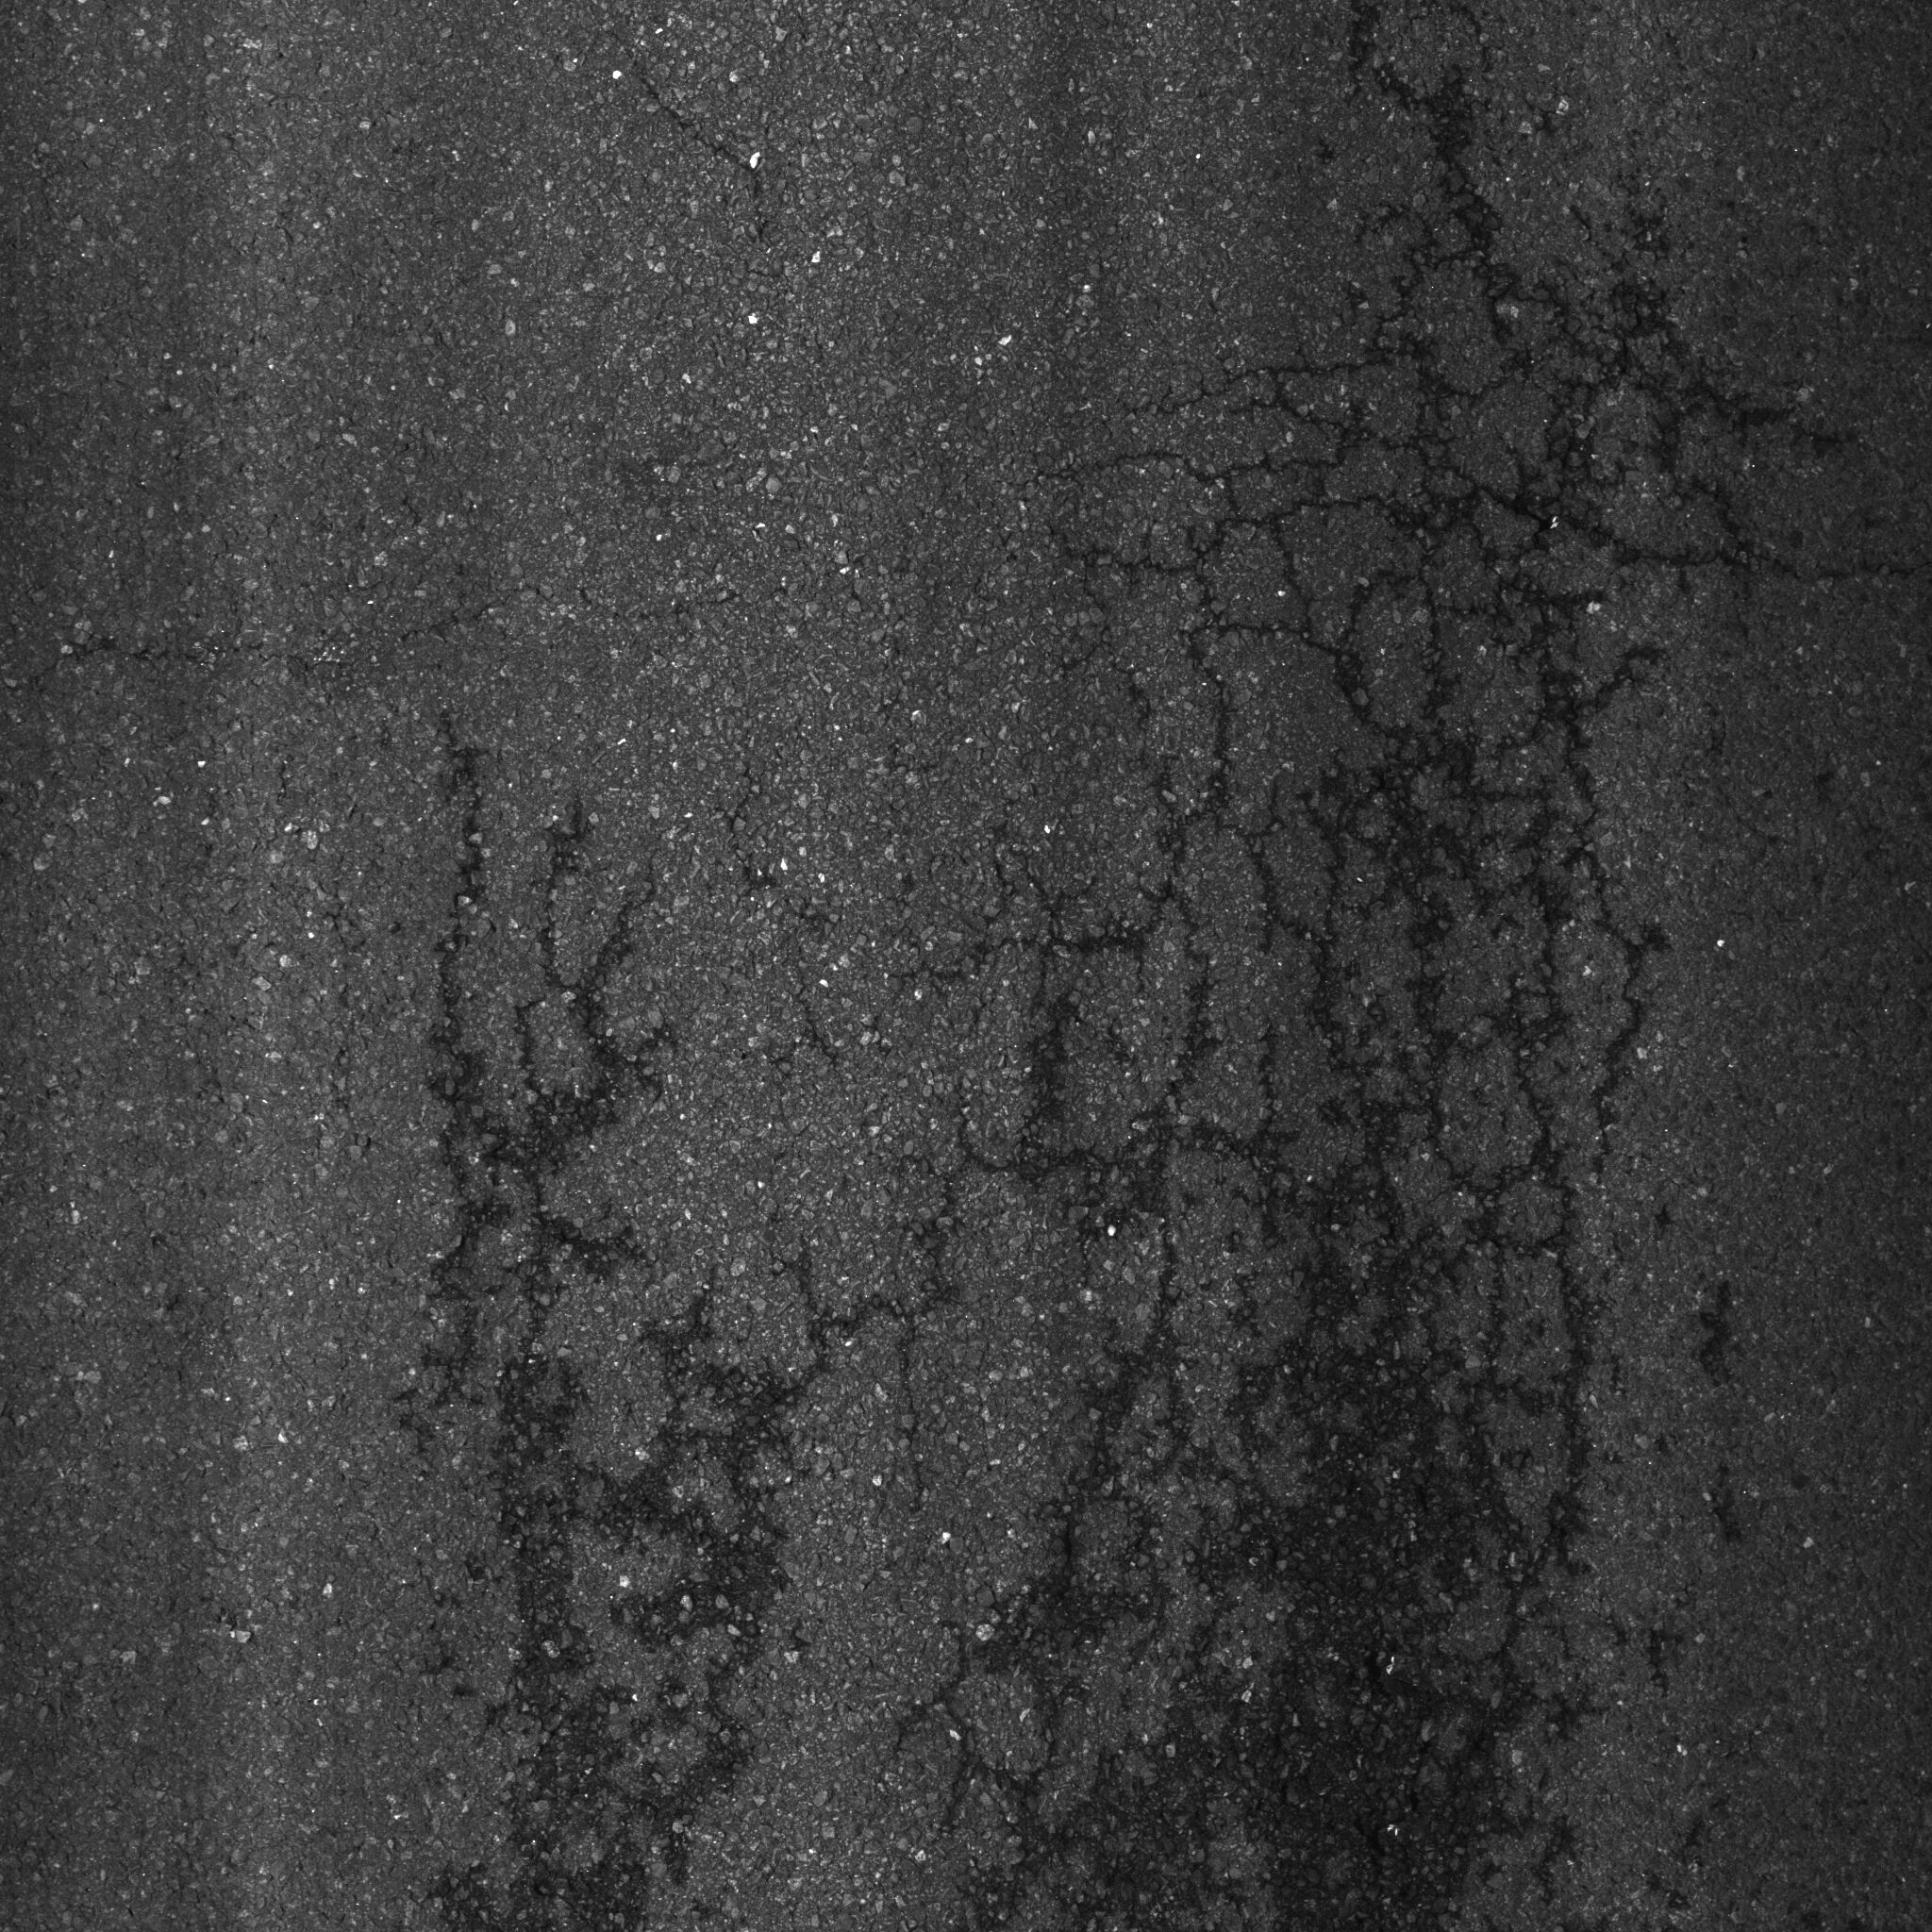alligator: (359, 69, 1764, 1932)
